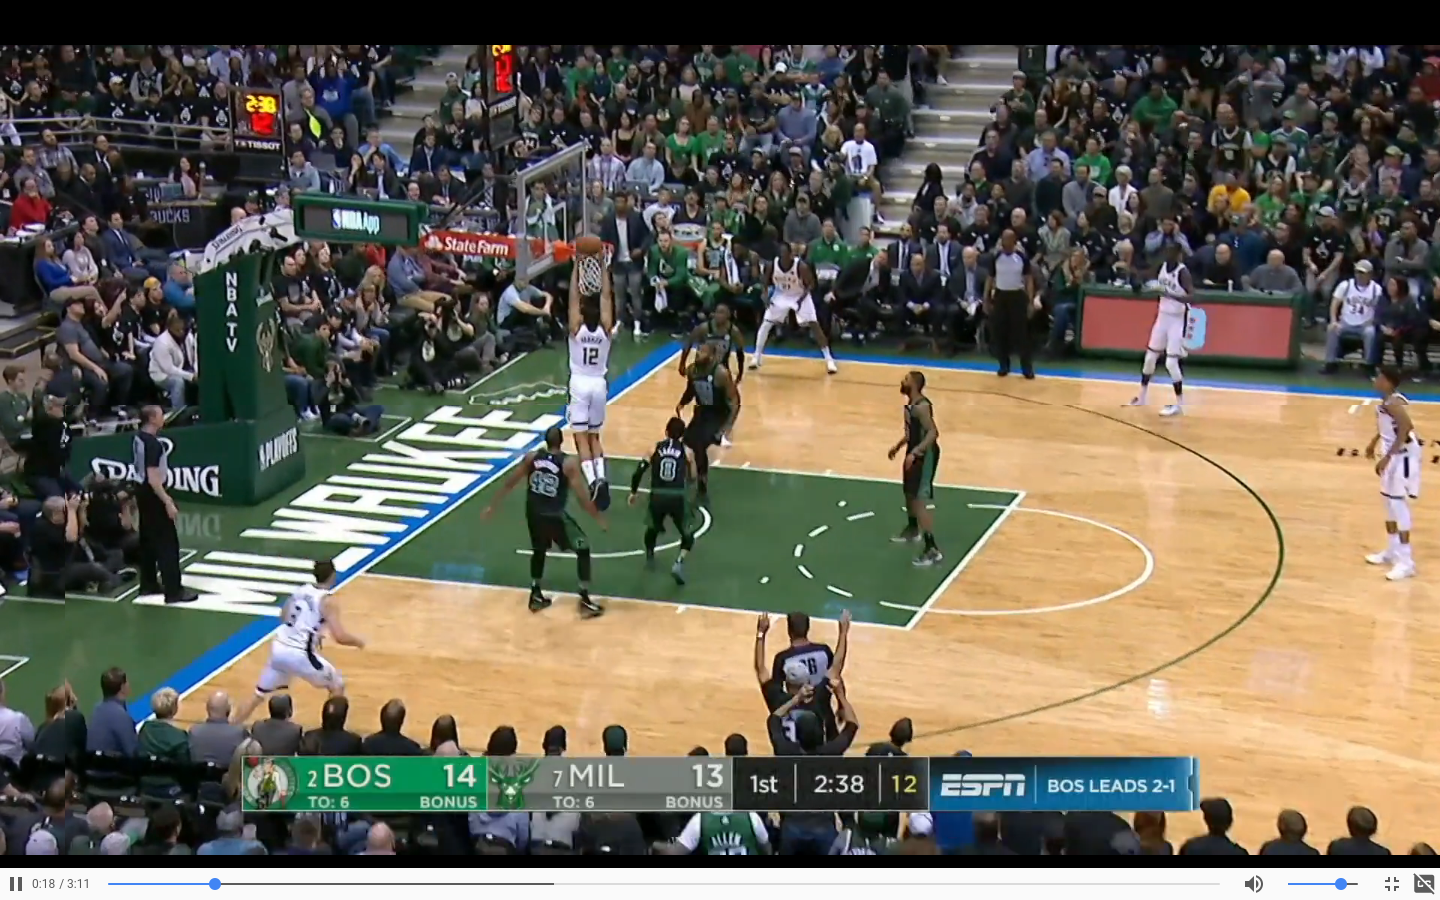basketball: (567, 228, 610, 262)
basketball player: (479, 428, 613, 619), (232, 548, 368, 722), (1355, 356, 1427, 588), (1120, 235, 1204, 424), (624, 416, 704, 596), (565, 252, 616, 508), (750, 242, 838, 379), (884, 371, 941, 568), (676, 345, 739, 480), (692, 300, 744, 368)
referee: (116, 399, 207, 614), (984, 228, 1045, 383), (772, 608, 847, 726)
